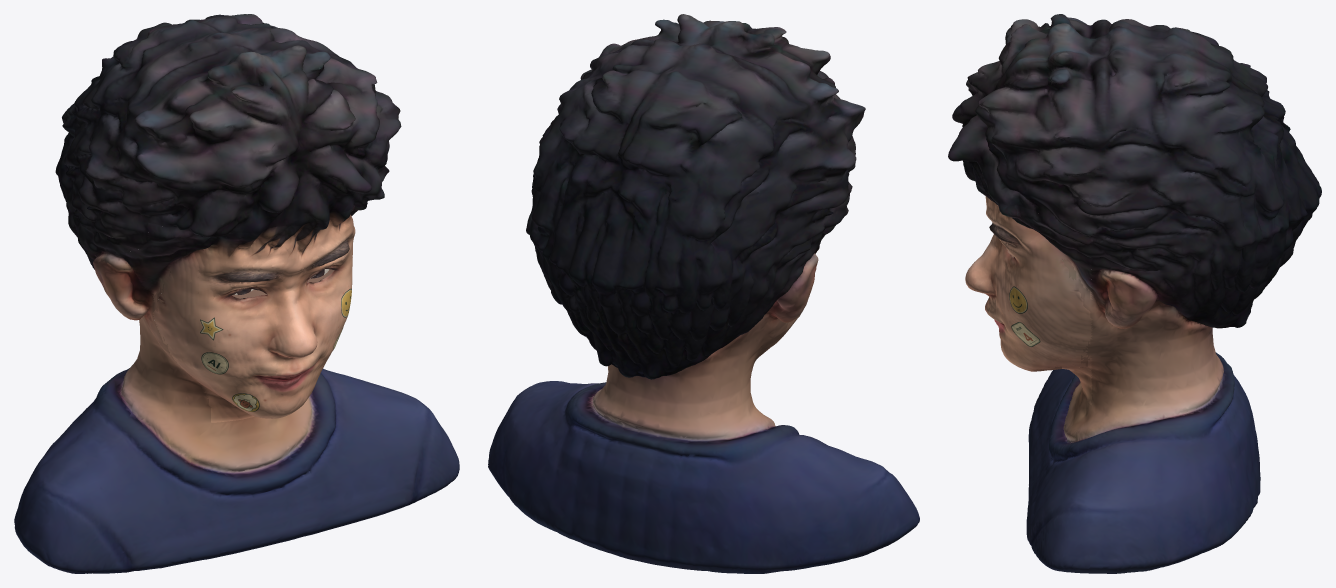
Rendered from me-web.glb.
3 renders of one model, left to right at view 1: azimuth 30°, elevation 25°; view 2: azimuth 150°, elevation 25°; view 3: azimuth 270°, elevation 25°, orthographic. The views are drawn at different scales.
Visible parts, largest first — view 1: Haoyang_Full3D; view 2: Haoyang_Full3D; view 3: Haoyang_Full3D.
Boxes of the visible parts, x1=… form: Haoyang_Full3D: x1=14, y1=14, x2=459, y2=573; Haoyang_Full3D: x1=488, y1=14, x2=919, y2=573; Haoyang_Full3D: x1=948, y1=14, x2=1321, y2=573.
Size of the model in its own units: 1.59 by 1.8 by 1.3.
Materials: 12 (8 with a texture image).
